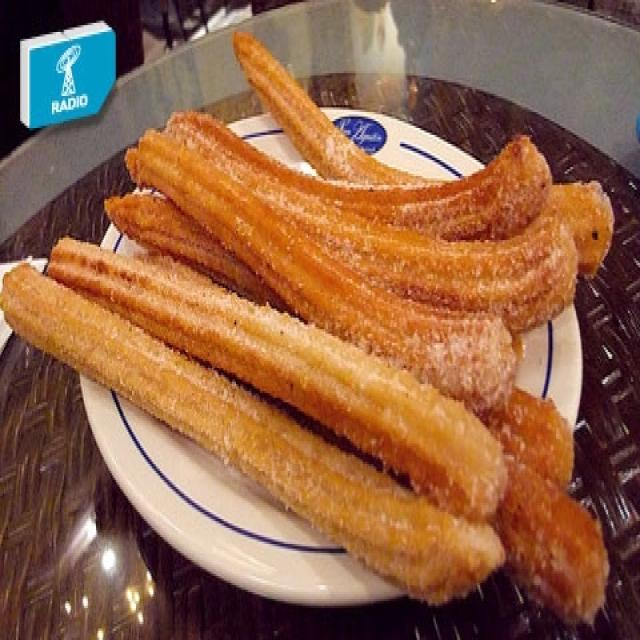炸货点心: (12, 23, 617, 617)
